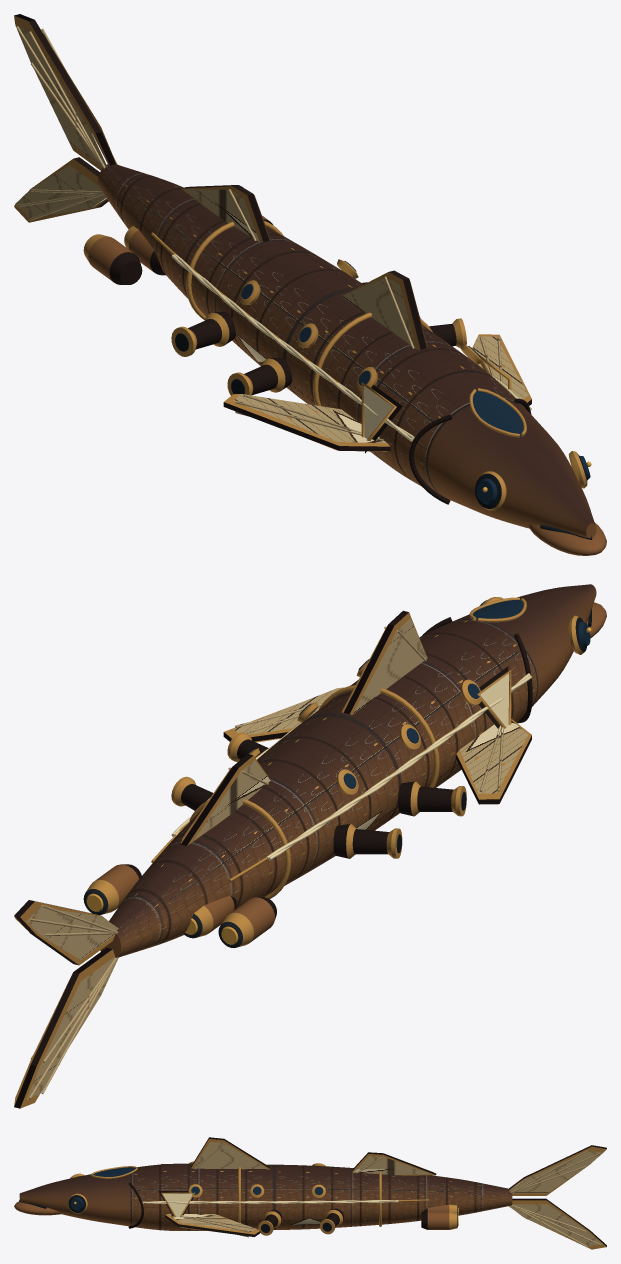
The picture shows the model from 3 angles, top to bottom: view 1: azimuth 30°, elevation 25°; view 2: azimuth 150°, elevation 25°; view 3: azimuth 270°, elevation 25°; orthographic projection. The views are drawn at different scales.
Parts seen in each view (by area): view 1: barracuda_hull; view 2: barracuda_hull; view 3: barracuda_hull.
Part boxes in pixels (x1,y1,x2,y2): barracuda_hull: (14, 14, 606, 555); barracuda_hull: (14, 584, 606, 1108); barracuda_hull: (14, 1137, 606, 1249).
Size of the model in its own units: 10.99 by 8.25 by 40.
Materials: 1 (1 with a texture image).
